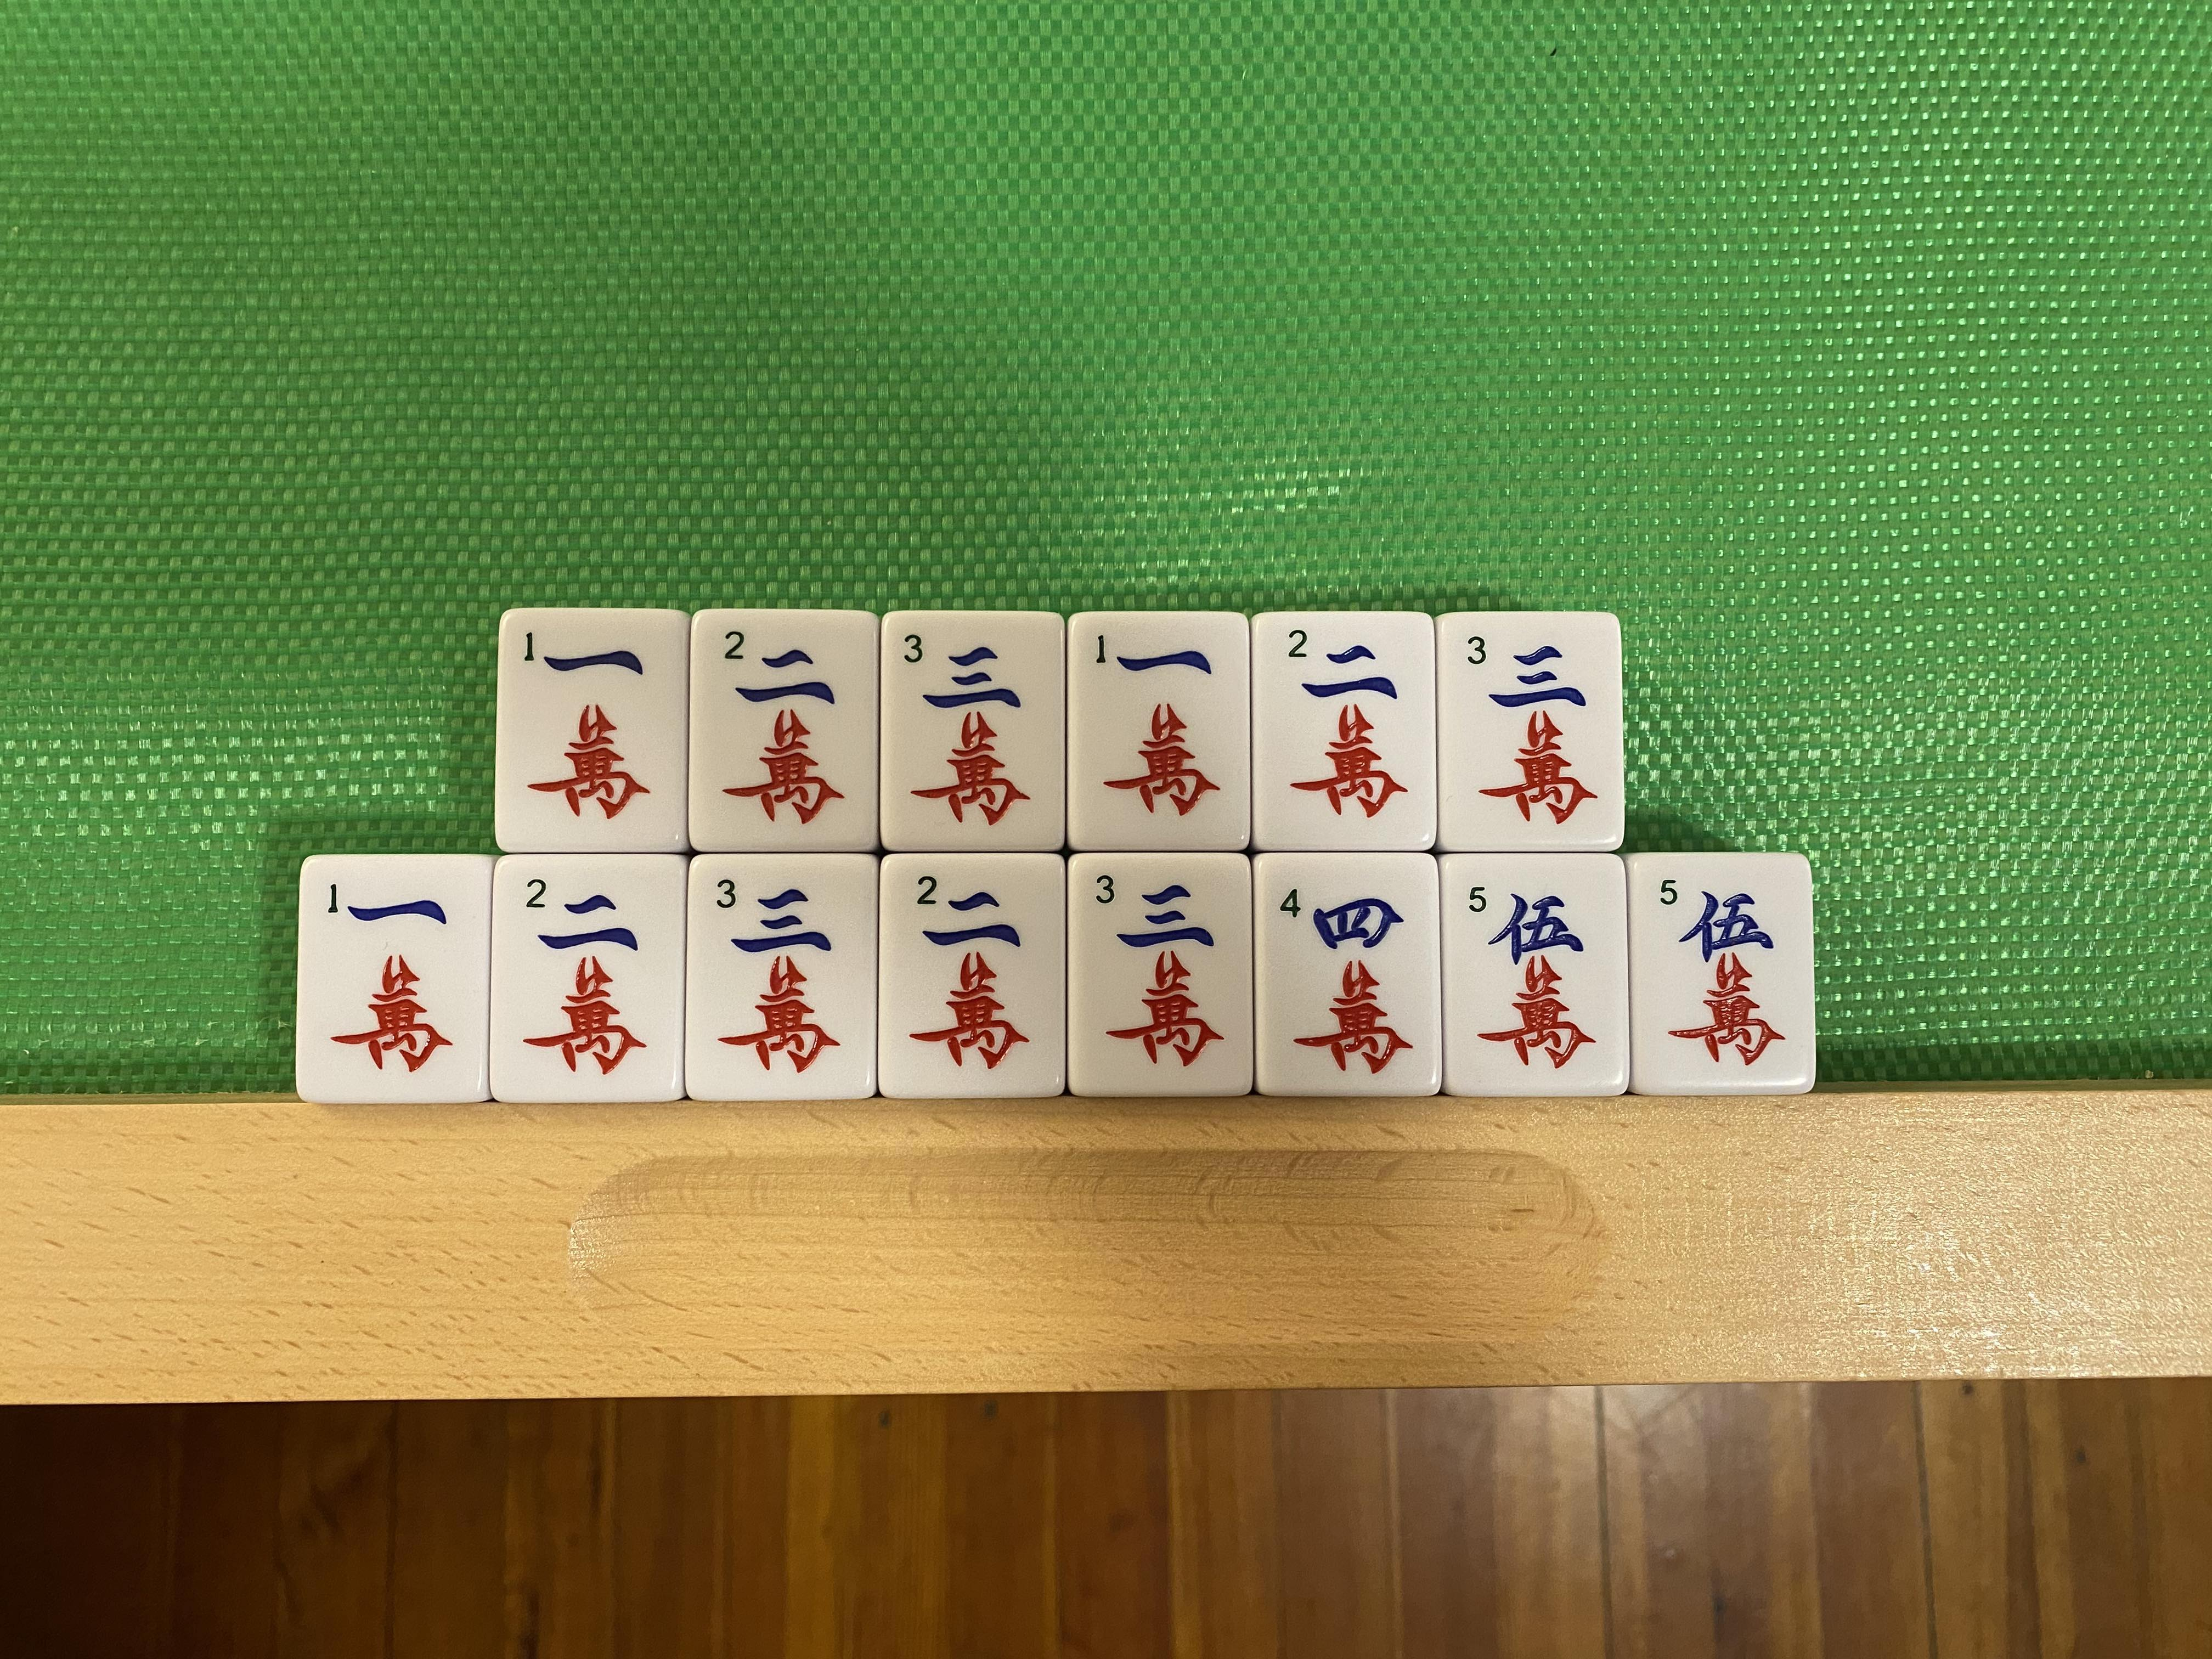character-five: (1632, 854, 1815, 1094), (1446, 854, 1627, 1094)
character-four: (1258, 856, 1435, 1094)
character-one: (298, 859, 486, 1098), (503, 612, 681, 847), (1071, 613, 1244, 847)
character-three: (685, 857, 880, 1098), (1068, 854, 1252, 1094), (1439, 613, 1620, 850), (881, 615, 1064, 849)
character-two: (489, 857, 685, 1098), (690, 612, 878, 852), (881, 854, 1064, 1098), (1256, 615, 1433, 845)
